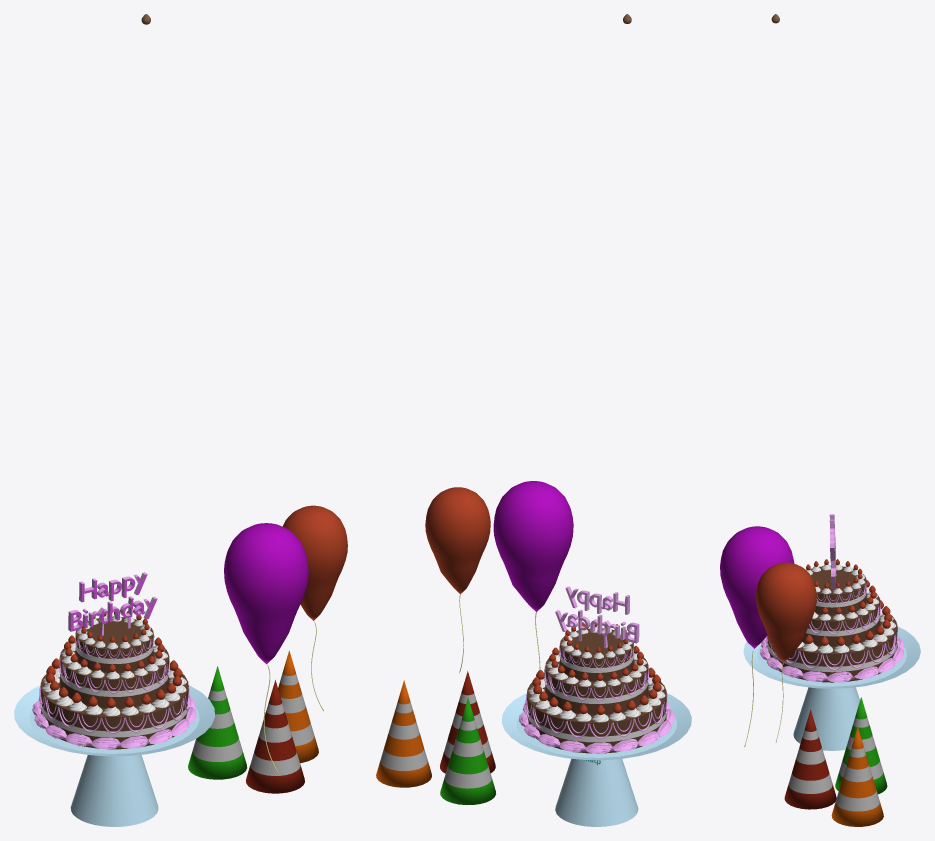
The model's file is cake2.gltf.
3 views of the same model, side by side, from view 1: azimuth 30°, elevation 25°; view 2: azimuth 150°, elevation 25°; view 3: azimuth 270°, elevation 25° (orthographic). The views are drawn at different scales.
Parts seen in each view (by area): view 1: Cake, Balloons, Birthday Hats, Cake Holder, Happy Birthday Decoration; view 2: Cake, Balloons, Birthday Hats, Cake Holder, Happy Birthday Decoration; view 3: Cake, Balloons, Birthday Hats, Cake Holder, Happy Birthday Decoration.
Part boxes in pixels (x1=…): Cake: x1=32, y1=14, x2=196, y2=749; Balloons: x1=224, y1=505, x2=347, y2=774; Birthday Hats: x1=188, y1=650, x2=318, y2=793; Cake Holder: x1=14, y1=685, x2=214, y2=826; Happy Birthday Decoration: x1=68, y1=572, x2=157, y2=635; Cake: x1=519, y1=14, x2=674, y2=753; Balloons: x1=425, y1=481, x2=573, y2=673; Birthday Hats: x1=376, y1=671, x2=495, y2=804; Cake Holder: x1=501, y1=693, x2=691, y2=826; Happy Birthday Decoration: x1=555, y1=586, x2=639, y2=648; Cake: x1=760, y1=14, x2=904, y2=682; Balloons: x1=720, y1=526, x2=816, y2=746; Birthday Hats: x1=784, y1=697, x2=887, y2=826; Cake Holder: x1=743, y1=626, x2=920, y2=750; Happy Birthday Decoration: x1=829, y1=514, x2=836, y2=589.
Size of the model in its own units: 4.7 by 12.16 by 3.07.
Materials: 6 (5 with a texture image).
